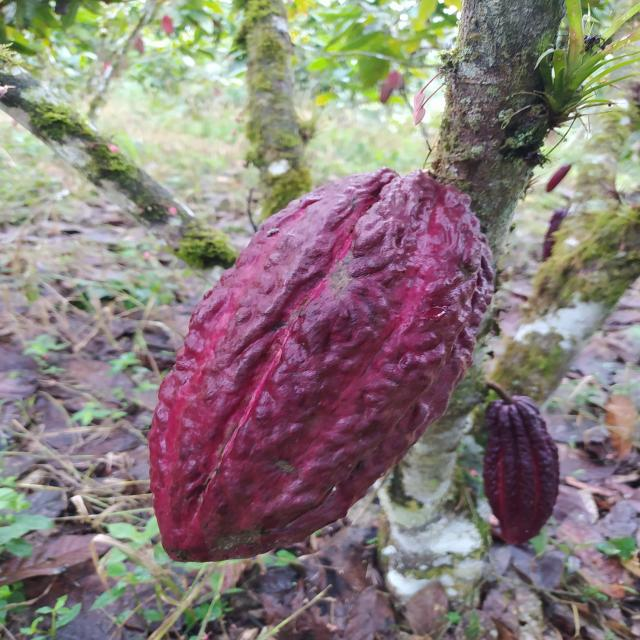Sana: (149, 169, 497, 564), (481, 397, 560, 546)
